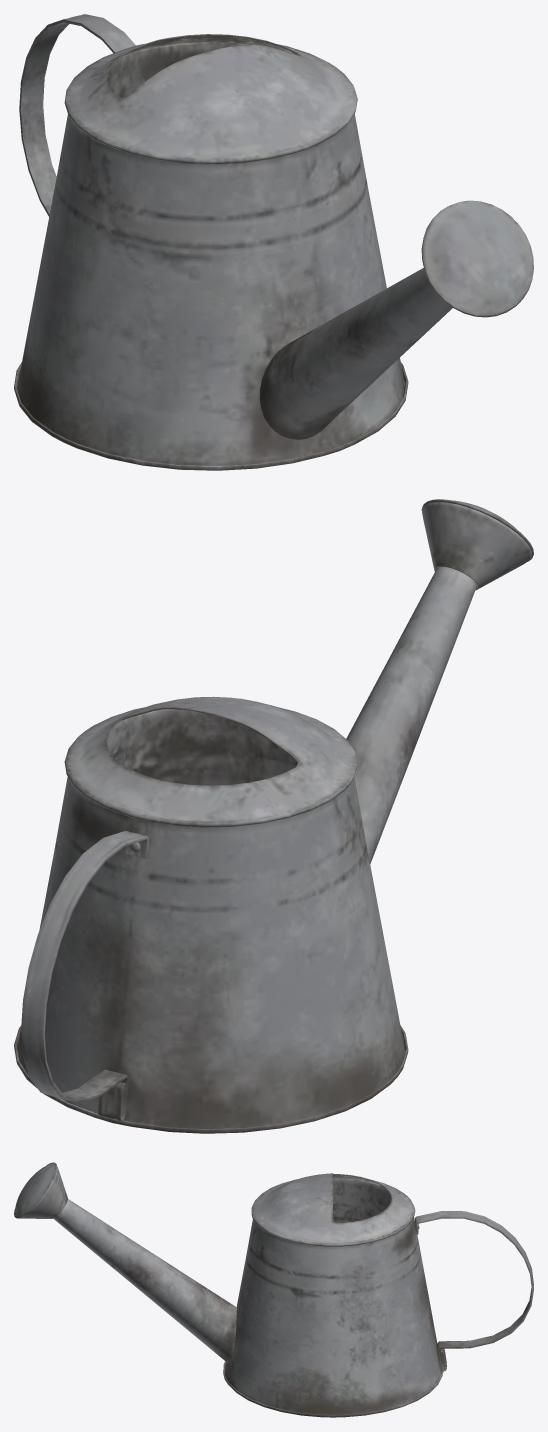
The model's file is watering_can_metal_01.glb.
The picture shows the model from 3 angles, top to bottom: view 1: azimuth 30°, elevation 25°; view 2: azimuth 150°, elevation 25°; view 3: azimuth 270°, elevation 25°; orthographic projection. The views are drawn at different scales.
Visible parts, largest first — view 1: watering_can_metal_01; view 2: watering_can_metal_01; view 3: watering_can_metal_01.
Part boxes in pixels (<box>): watering_can_metal_01: <box>14,14,533,470</box>; watering_can_metal_01: <box>14,499,533,1133</box>; watering_can_metal_01: <box>14,1162,533,1417</box>.
Size of the model in its own units: 0.191 by 0.1968 by 0.4523.
1 material, 1 textured.
